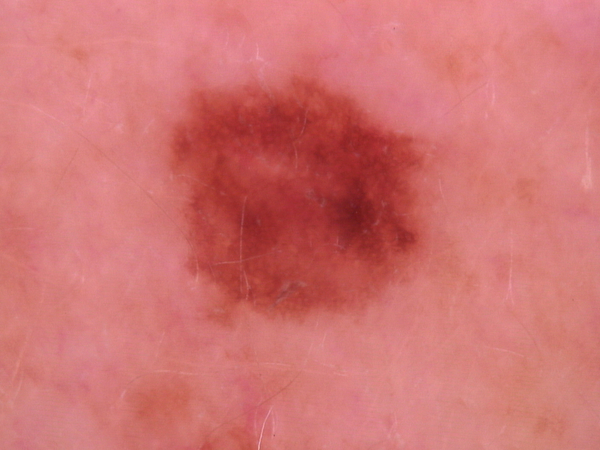Detected Lesion: (155, 71, 438, 331)
